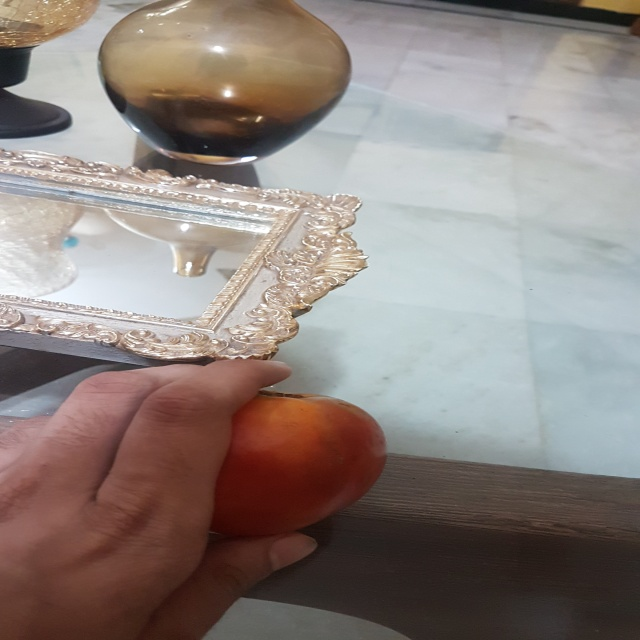tomato: (143, 391, 400, 550)
